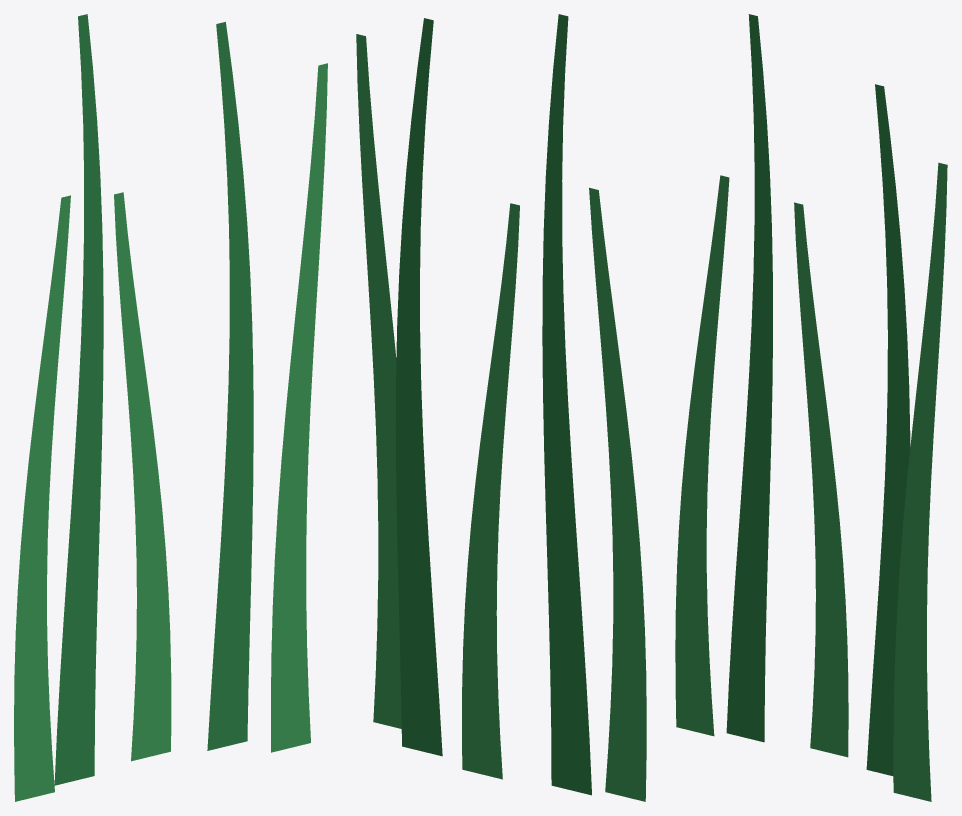
The model's file is more-rasy.glb.
The picture shows the model from 3 angles, left to right: view 1: azimuth 30°, elevation 25°; view 2: azimuth 150°, elevation 25°; view 3: azimuth 330°, elevation 25°; orthographic projection. The views are drawn at different scales.
Parts seen in each view (by area): view 1: more-rasy; view 2: more-rasy; view 3: more-rasy.
Boxes of the visible parts, <box> form: more-rasy: <box>14,14,327,801</box>; more-rasy: <box>356,14,646,801</box>; more-rasy: <box>675,14,947,801</box>.
Bounding box in the file's own units: 1.68 × 4.08 × 0.2529.
